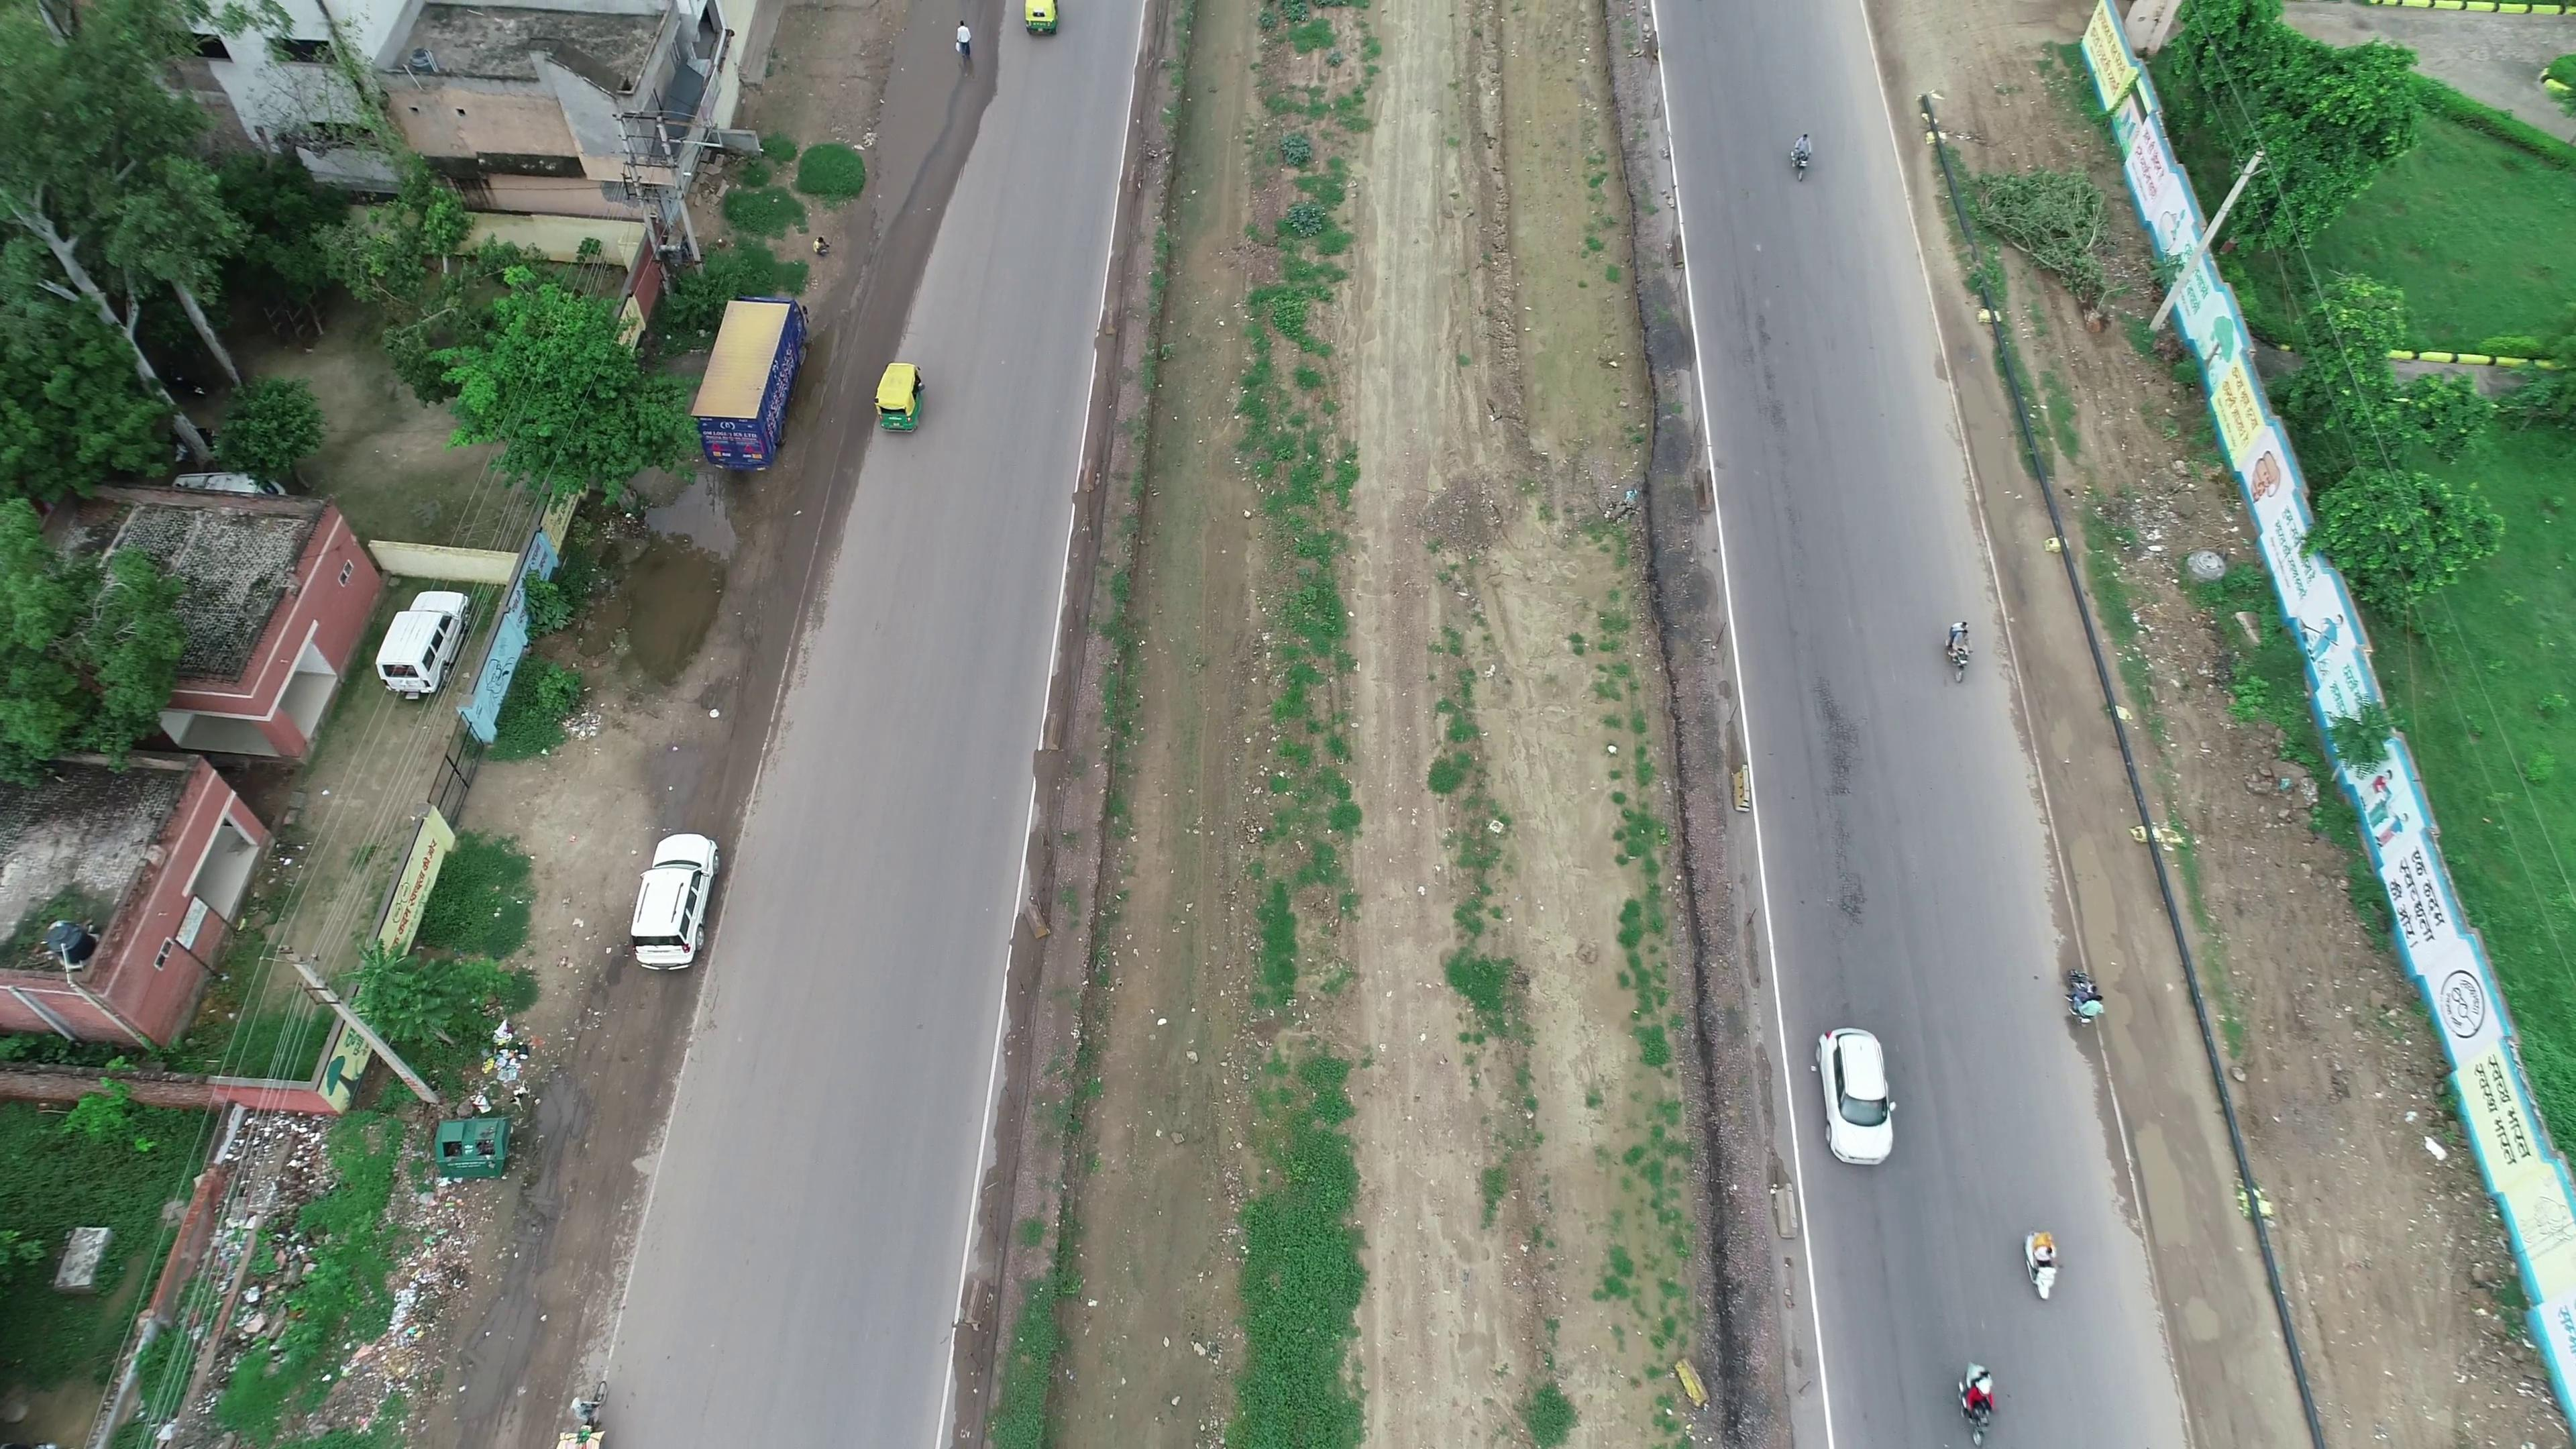Alligator_cracks: (1792, 665, 1881, 929)
